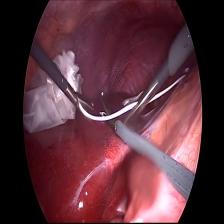Grasper: (122, 79, 156, 127), (95, 85, 118, 140), (72, 84, 94, 130)
Specimen Bag: (24, 46, 84, 134)
